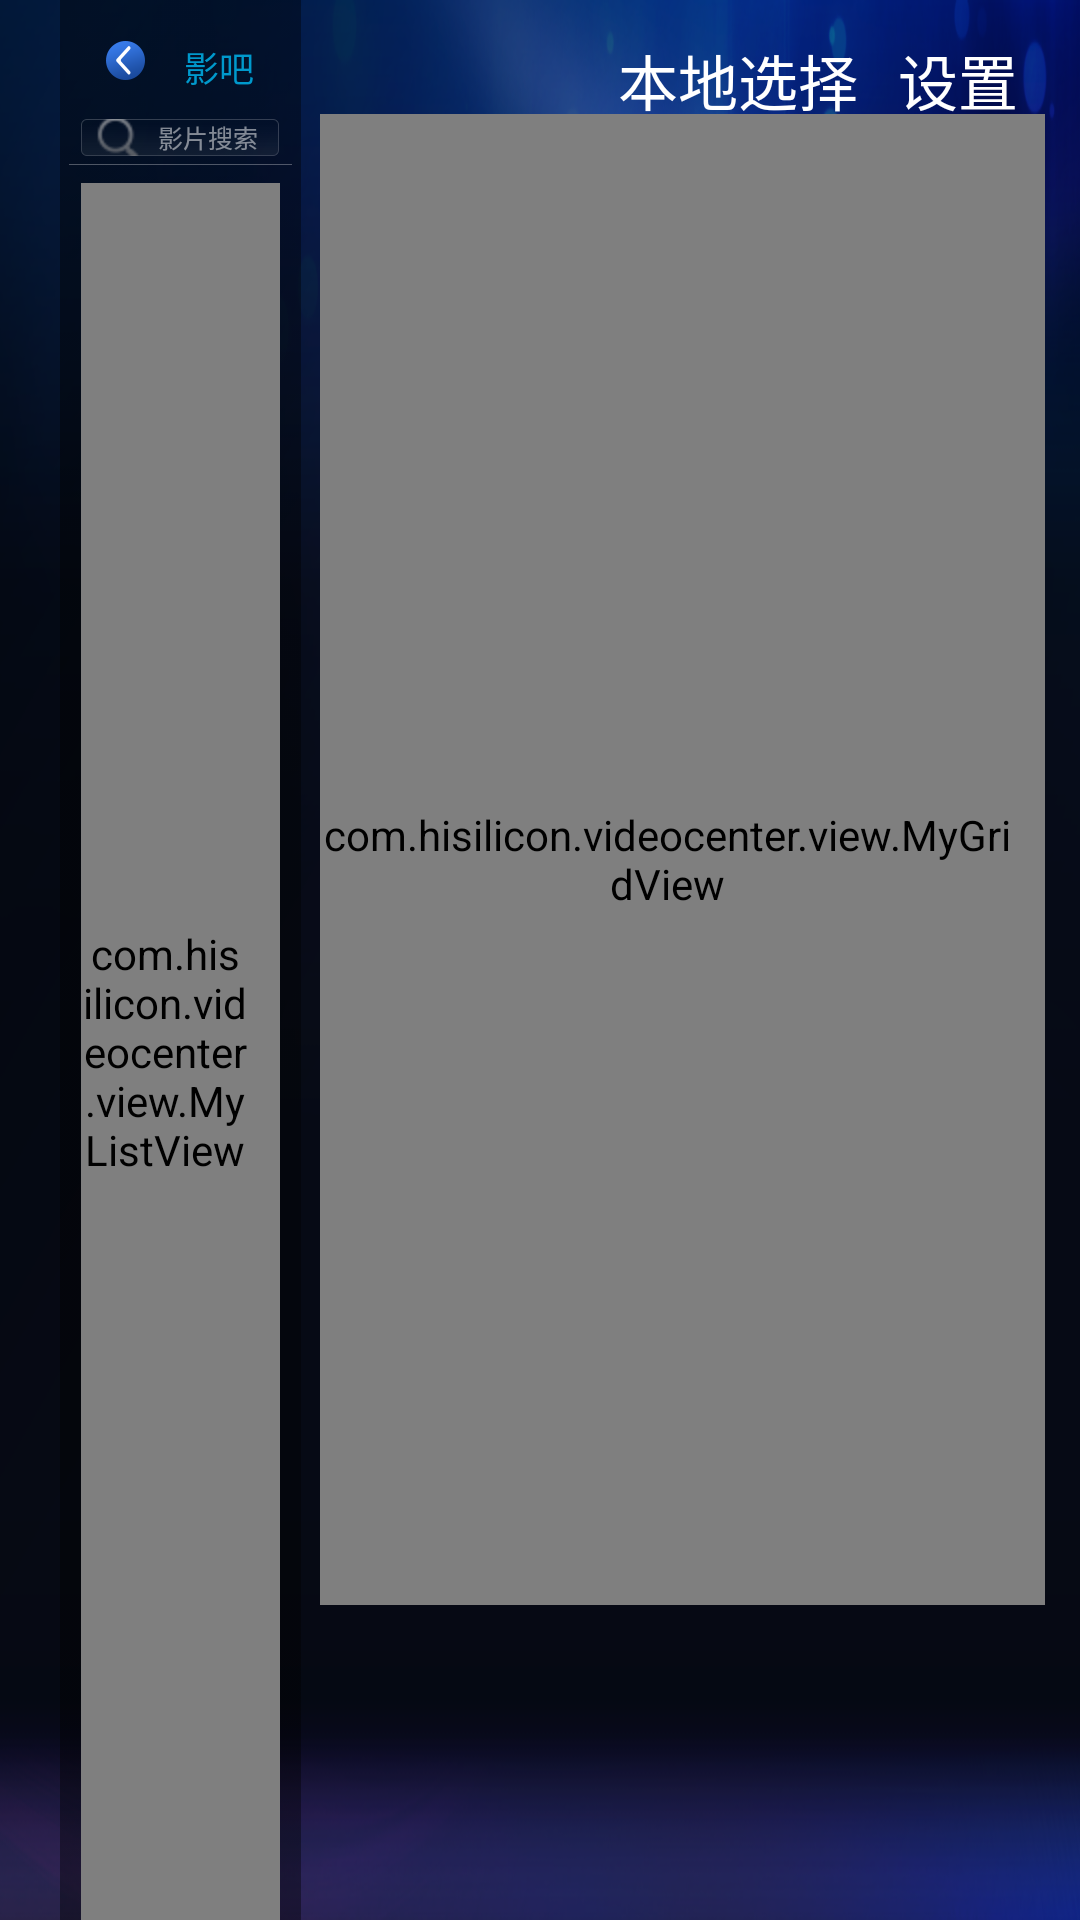

Point at icon controls on the screen. Image size 1080w x 1920h, points as (x=x, y=y).
back: (x=125, y=60)
